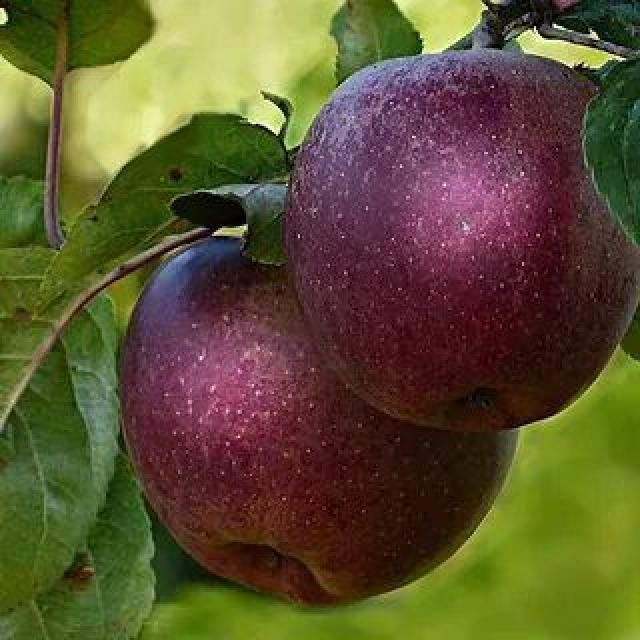Fresh Apple: (120, 265, 500, 597), (286, 56, 622, 426)
